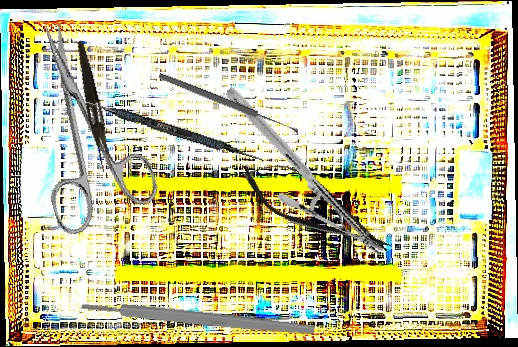Dressing Forceps: (70, 40, 117, 172)
Iris Scissors: (4, 7, 164, 239)
Micro Scissor: (230, 144, 404, 272)
Needle Holder: (193, 86, 416, 257)
Scalpel Handle: (80, 298, 316, 338)
Spatula Surgical: (65, 92, 267, 164)
Surgical Spoon: (157, 71, 300, 136)
